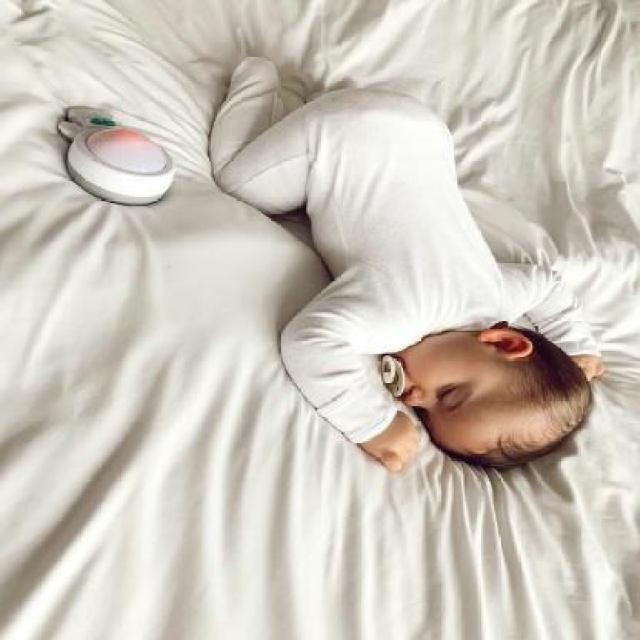baby: (208, 51, 600, 474)
